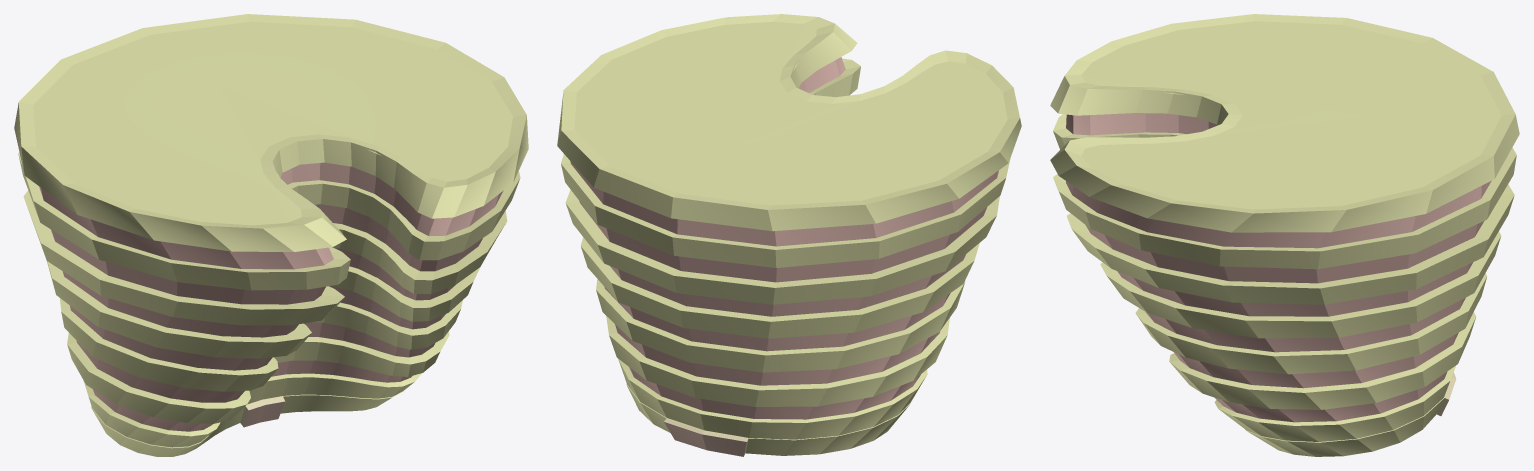
Rendered from Building Background_02.fbx.
3 views of the same model, side by side, from view 1: azimuth 30°, elevation 25°; view 2: azimuth 150°, elevation 25°; view 3: azimuth 270°, elevation 25° (orthographic). The views are drawn at different scales.
Parts seen in each view (by area): view 1: Building2; view 2: Building2; view 3: Building2.
Boxes of the visible parts, x1,y1,x2,y2 form: Building2: (14, 14, 528, 456); Building2: (557, 14, 1021, 456); Building2: (1050, 14, 1519, 456).
Size of the model in its own units: 12.43 by 8.34 by 12.36.
